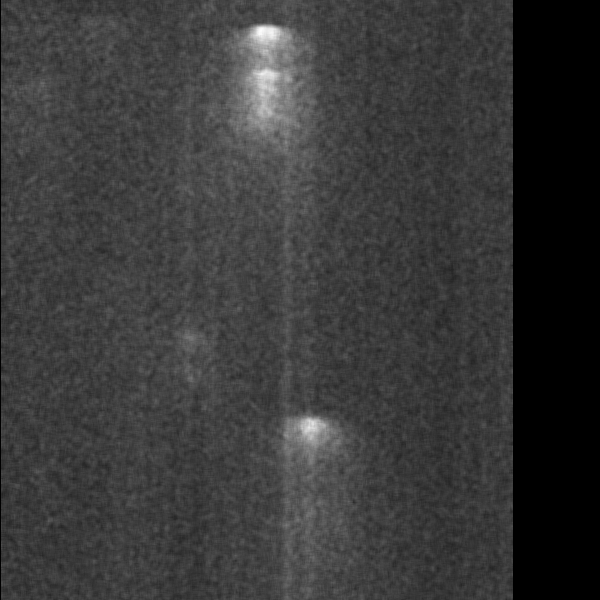spark: (107, 182, 138, 216), (66, 564, 88, 586)
